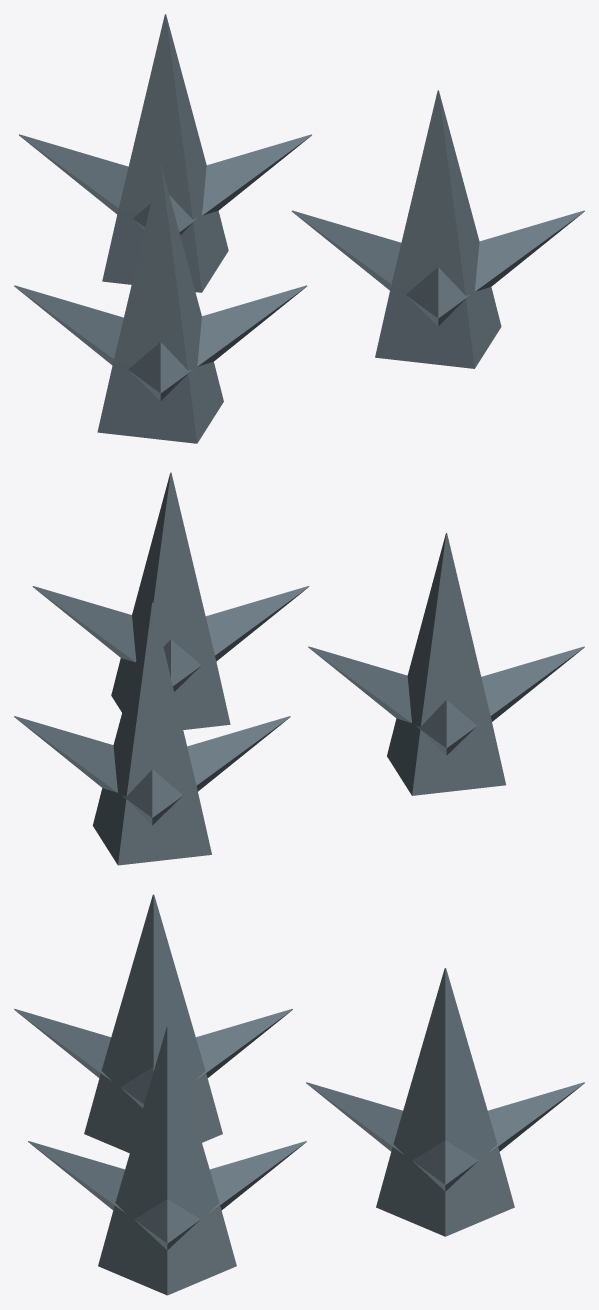
The model's file is Caltrops.fbx.
The picture shows the model from 3 angles, top to bottom: view 1: azimuth 30°, elevation 25°; view 2: azimuth 150°, elevation 25°; view 3: azimuth 270°, elevation 25°; orthographic projection. The views are drawn at different scales.
Visible parts, largest first — view 1: Caltrops.002; view 2: Caltrops.002; view 3: Caltrops.002.
Part boxes in pixels (box(x1,y1,x2,y2)): Caltrops.002: box(14, 14, 584, 443); Caltrops.002: box(14, 472, 584, 865); Caltrops.002: box(14, 894, 584, 1295).
Bounding box in the file's own units: 79.8 × 38 × 82.16.
